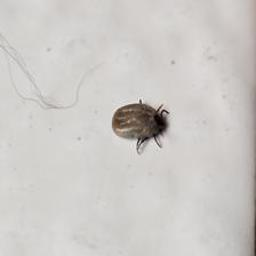Rhipicephalus sanguineus: (111, 102, 171, 153)
